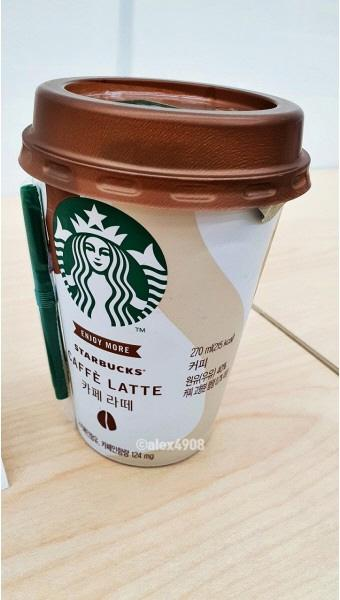starbucks_cafelatte: (21, 67, 322, 481)
